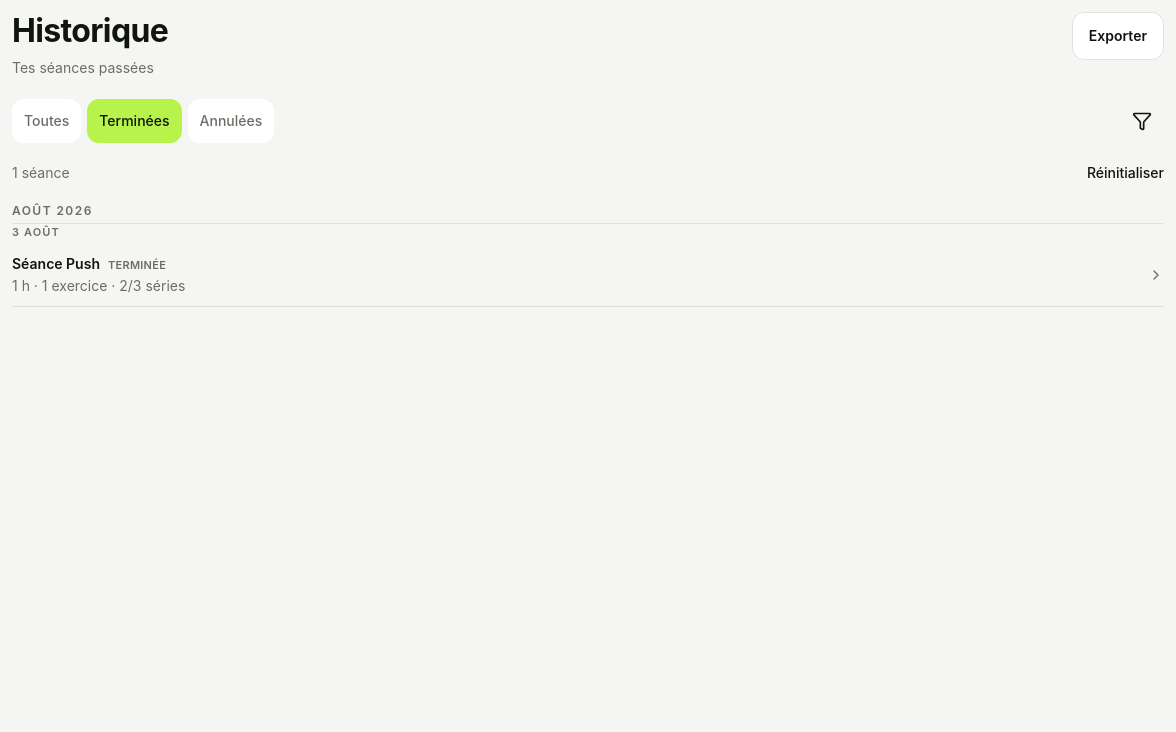
Test: WorkoutsHistoryPage › navigue vers le détail en conservant les filtres au retour
The image size is (1176, 732).
Expected: the text "Séance Push" is shown, x1=12 y1=254 x2=100 y2=274
Click the link with aria-label "Ouvrir la séance Séance Push": (56, 264) x1=12 y1=244 x2=1164 y2=306
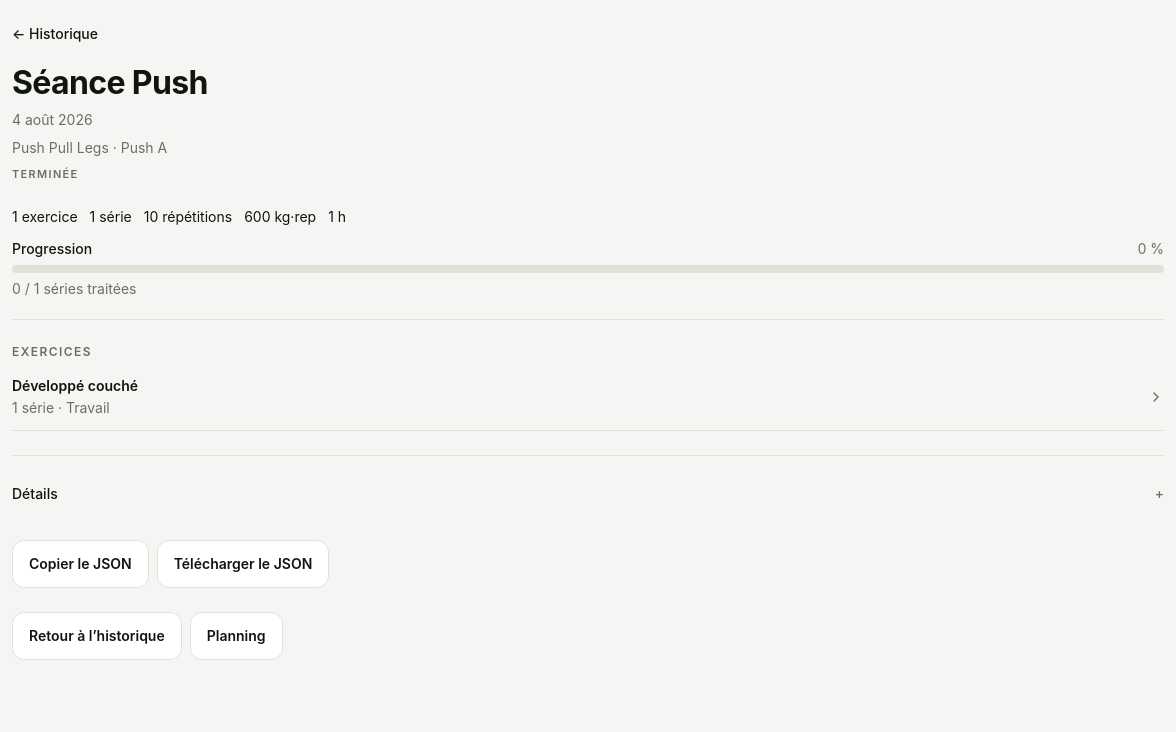
Expected: the text "Progression" is shown, x1=12 y1=239 x2=92 y2=259
Expected: the text "10 répétitions" is shown, x1=144 y1=207 x2=232 y2=227
Click the link "Retour à l’historique": (97, 636) x1=12 y1=612 x2=182 y2=660
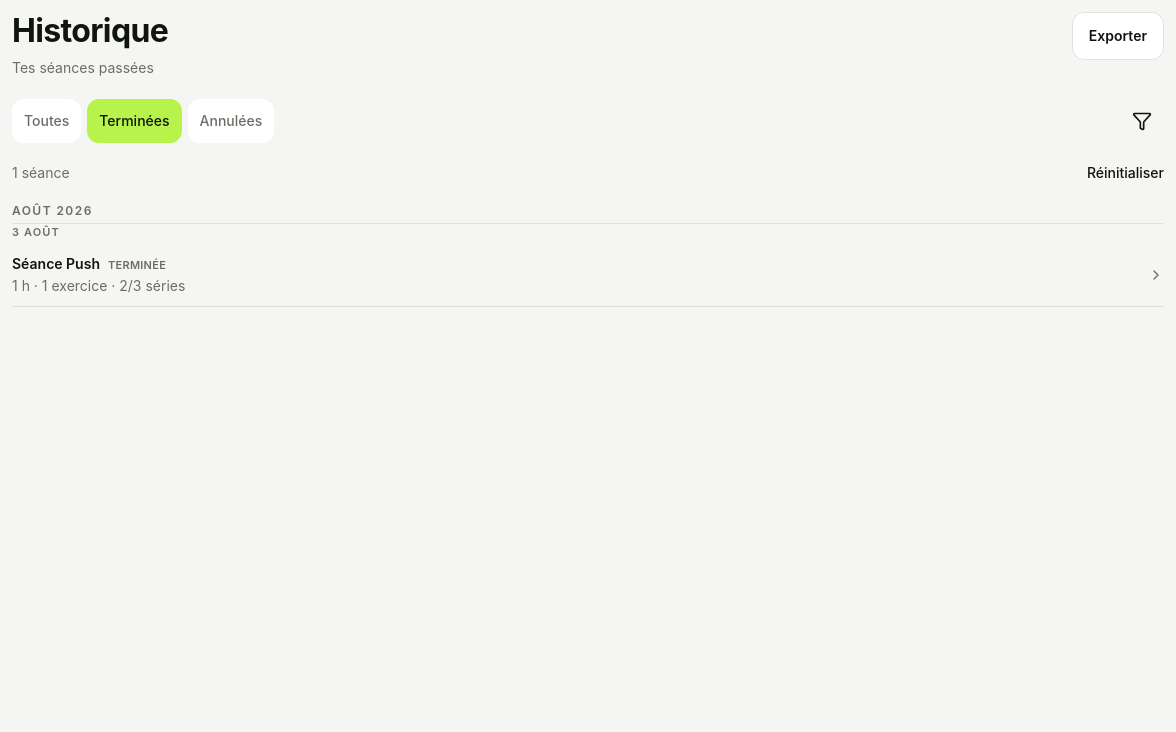
Expected: the heading "Historique" is shown, x1=12 y1=11 x2=168 y2=50
